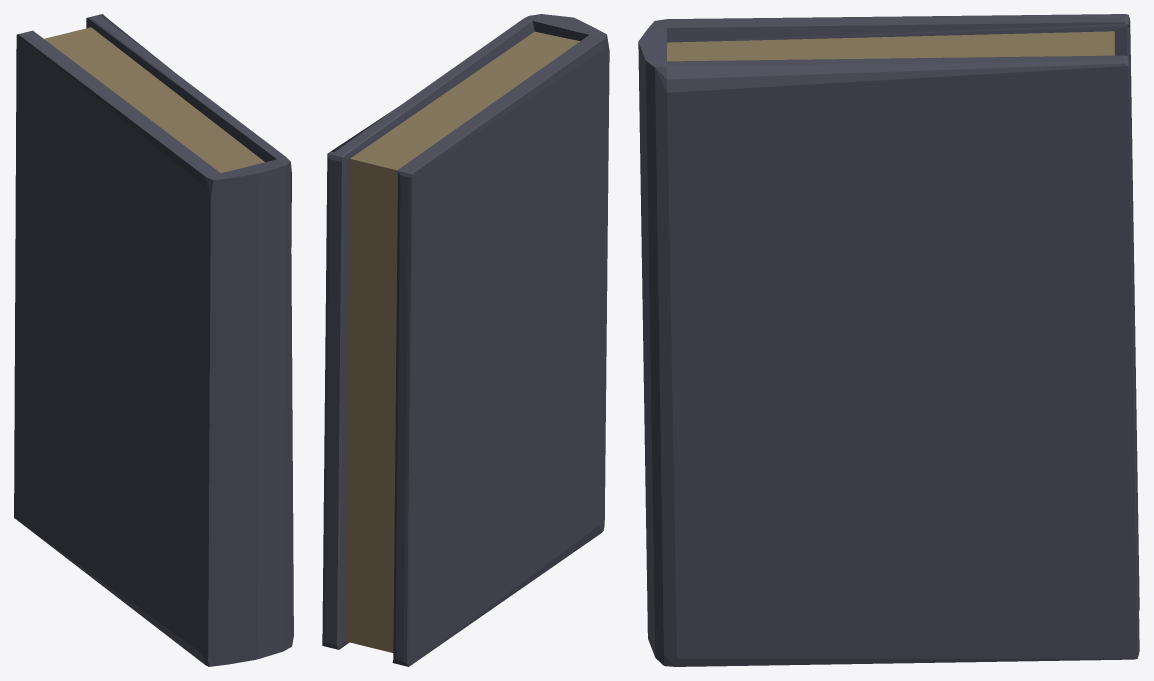
The model's file is book1.fbx.
3 renders of one model, left to right at view 1: azimuth 30°, elevation 25°; view 2: azimuth 150°, elevation 25°; view 3: azimuth 270°, elevation 25°, orthographic. The views are drawn at different scales.
Visible parts, largest first — view 1: 1 book; view 2: 1 book; view 3: 1 book.
Boxes of the visible parts, x1,y1,x2,y2 form: 1 book: [14, 14, 293, 666]; 1 book: [322, 14, 609, 666]; 1 book: [638, 14, 1139, 666].
Size of the model in its own units: 0.081 by 0.4402 by 0.3317.
